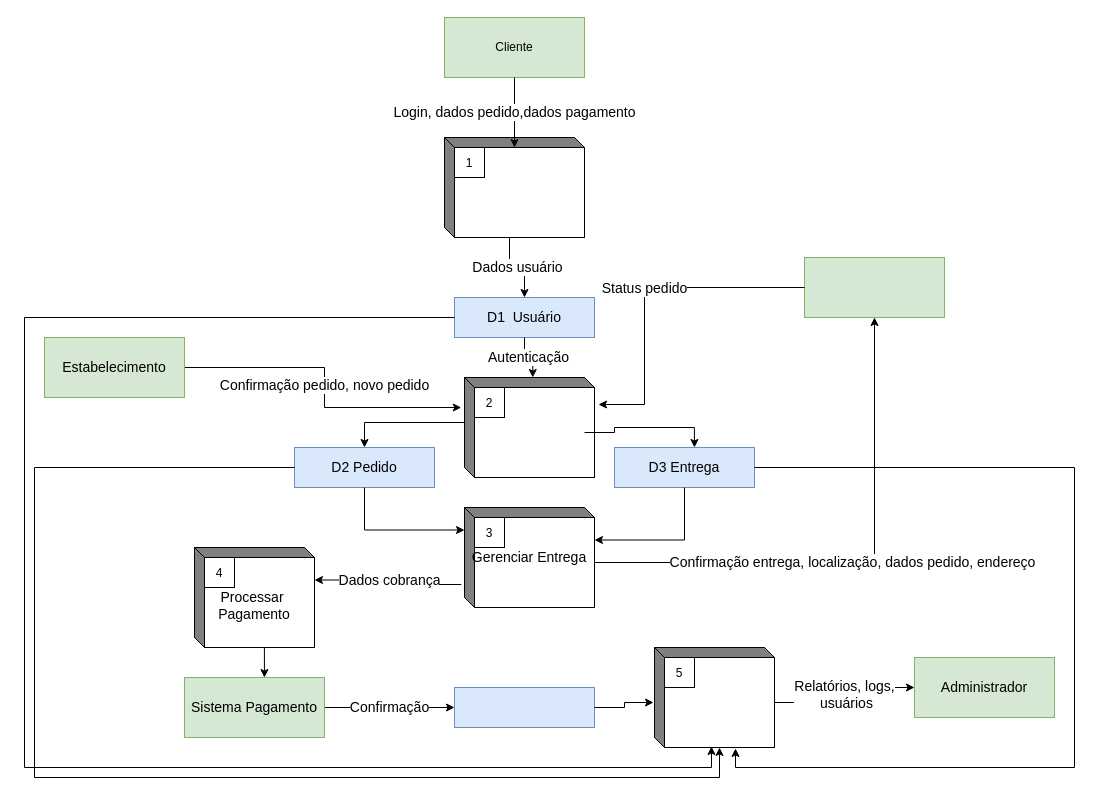
The diagram is 1100 pixels wide and 803 high, and some of its shapes have lost their labels. Here are the shapes that lost their labels. From the top down, the box of each, then its label:
(444, 136, 584, 238): Gerenciar Usuário
(804, 256, 944, 318): Entregador
(464, 376, 594, 478): Gerenciar Pedido
(454, 686, 594, 728): D4 Pagamento
(654, 646, 774, 748): Administração
